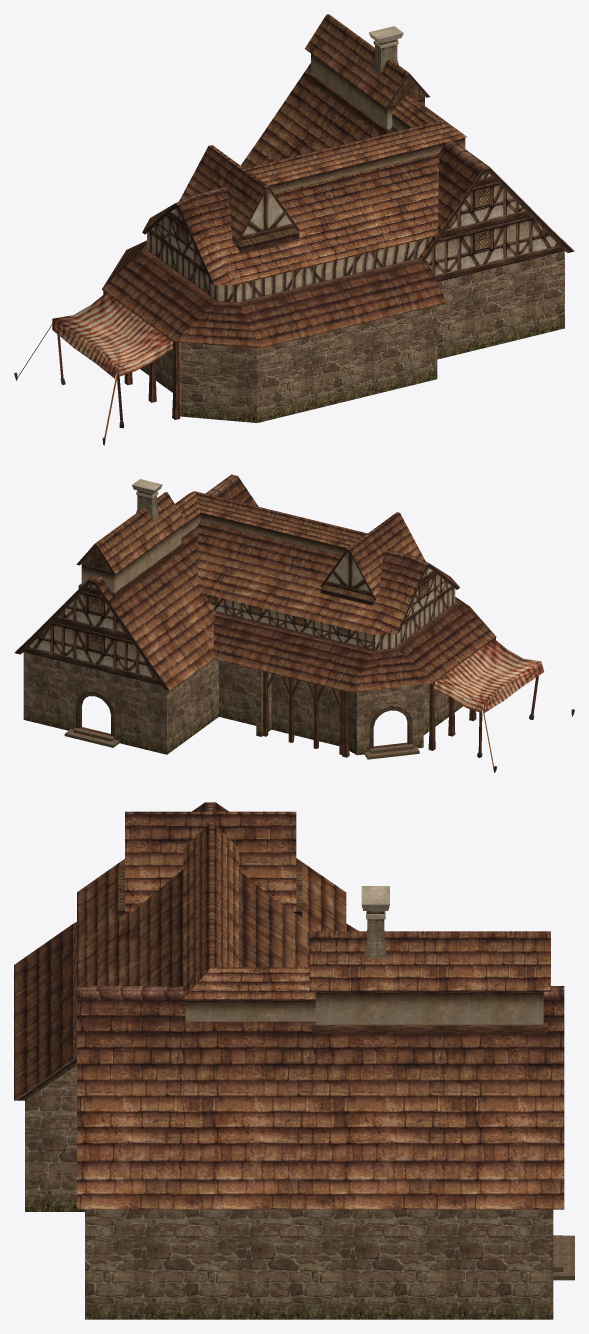
The model's file is ti_shop_01.glb.
3 renders of one model, top to bottom at view 1: azimuth 30°, elevation 25°; view 2: azimuth 150°, elevation 25°; view 3: azimuth 270°, elevation 25°, orthographic. The views are drawn at different scales.
Visible parts, largest first — view 1: TI_Shop_01; view 2: TI_Shop_01; view 3: TI_Shop_01.
Boxes of the visible parts, x1,y1,x2,y2 form: TI_Shop_01: [14, 14, 574, 445]; TI_Shop_01: [14, 474, 574, 772]; TI_Shop_01: [14, 802, 574, 1319].
Size of the model in its own units: 10.05 by 4.97 by 6.89.
Materials: 23 (23 with a texture image).
